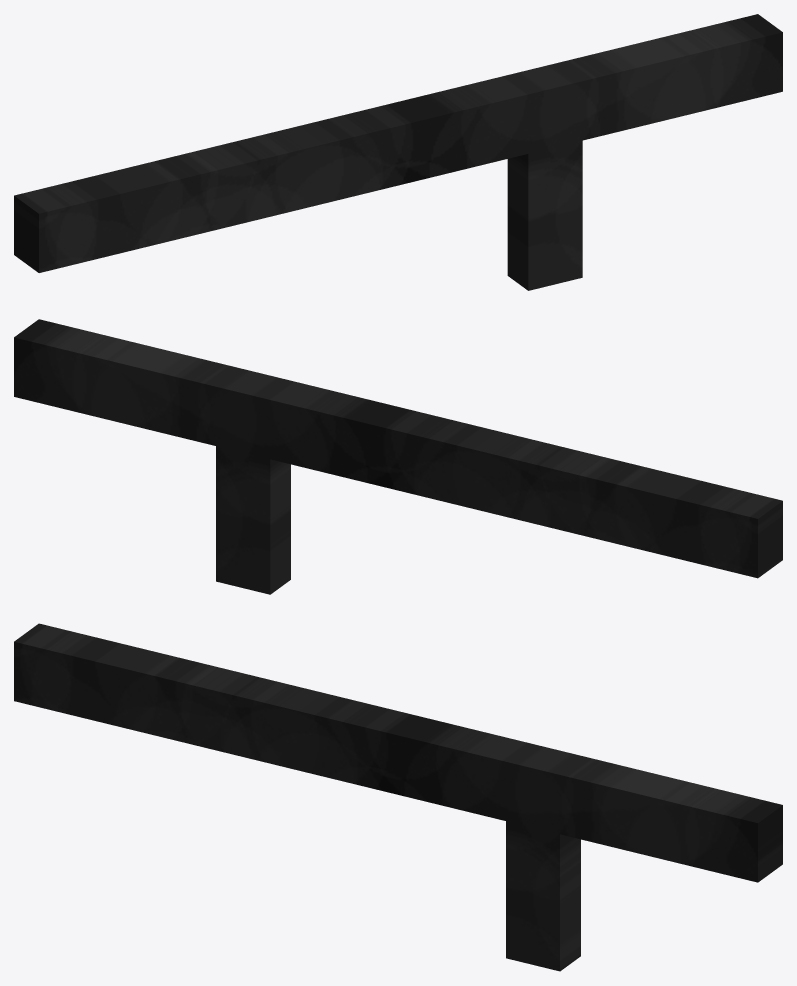
The model's file is Baton.fbx.
3 views of the same model, one above another, from view 1: azimuth 30°, elevation 25°; view 2: azimuth 150°, elevation 25°; view 3: azimuth 330°, elevation 25° (orthographic).
Parts seen in each view (by area): view 1: baton; view 2: baton; view 3: baton.
Boxes of the visible parts, left/top/right/bottom form: baton: left=14, top=14, right=782, bottom=290; baton: left=14, top=319, right=782, bottom=594; baton: left=14, top=623, right=782, bottom=971.
Size of the model in its own units: 18.59 by 4.72 by 1.08.
